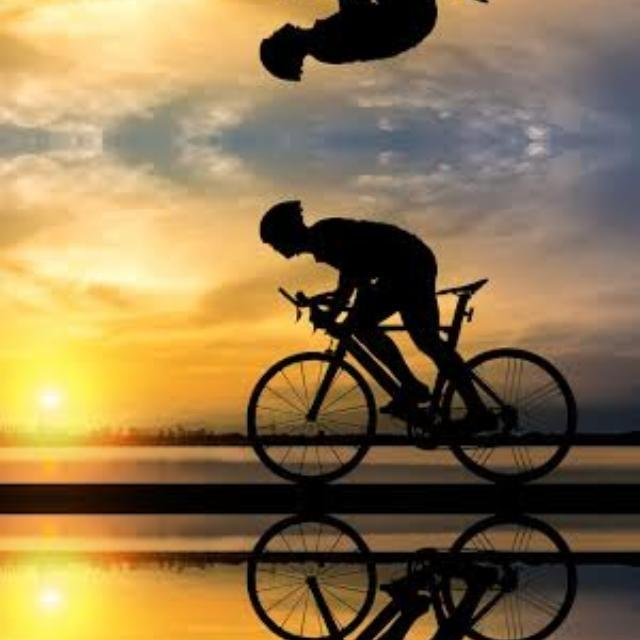obstacle: (248, 272, 584, 486), (248, 510, 584, 640), (248, 0, 584, 8)
